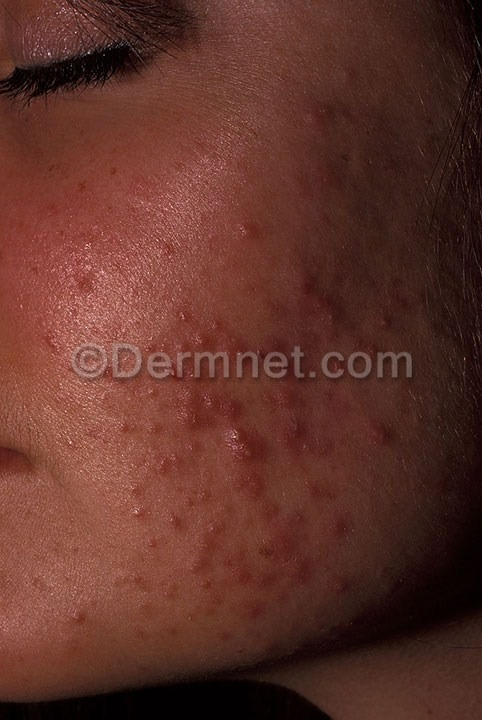Acne: (47, 116, 387, 640)
